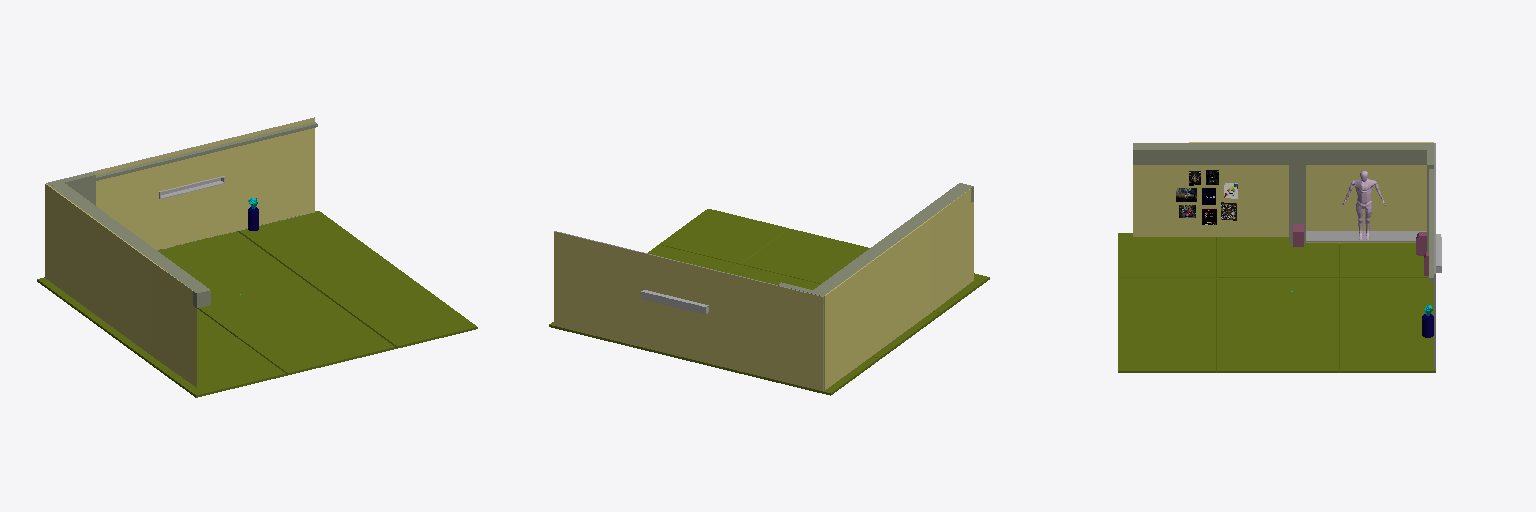
The picture shows the model from 3 angles: view 1: azimuth 30°, elevation 25°; view 2: azimuth 150°, elevation 25°; view 3: azimuth 270°, elevation 25°; orthographic projection.
Visible parts, largest first — view 1: room_Cube.003, Cube; view 2: room_Cube.003, Cube; view 3: Cube, room_Cube.003, robot_Cube.001.
Boxes of the visible parts, x1,y1,x2,y2 form: room_Cube.003: [45, 117, 317, 387]; Cube: [37, 211, 477, 397]; room_Cube.003: [554, 183, 973, 390]; Cube: [549, 209, 989, 395]; Cube: [1118, 233, 1435, 372]; room_Cube.003: [1133, 142, 1441, 368]; robot_Cube.001: [1342, 171, 1385, 239].
Bounding box in the file's own units: 174 × 57.37 × 173.
Materials: 21 (8 with a texture image).